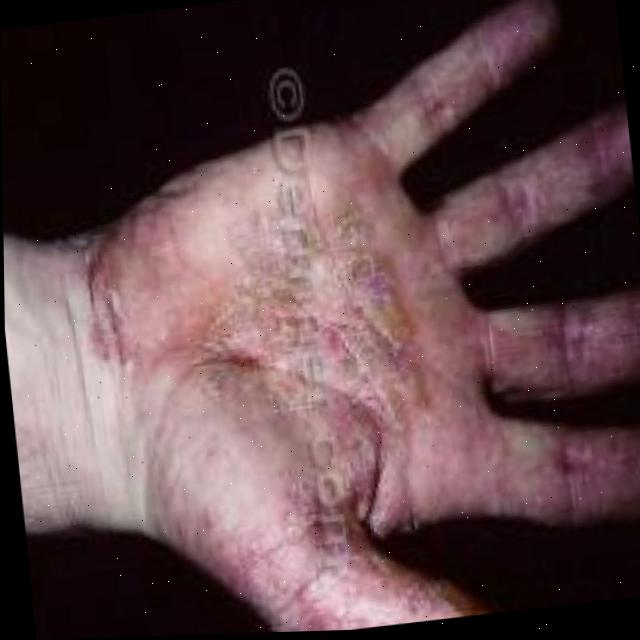Eczema: (71, 18, 640, 638)
